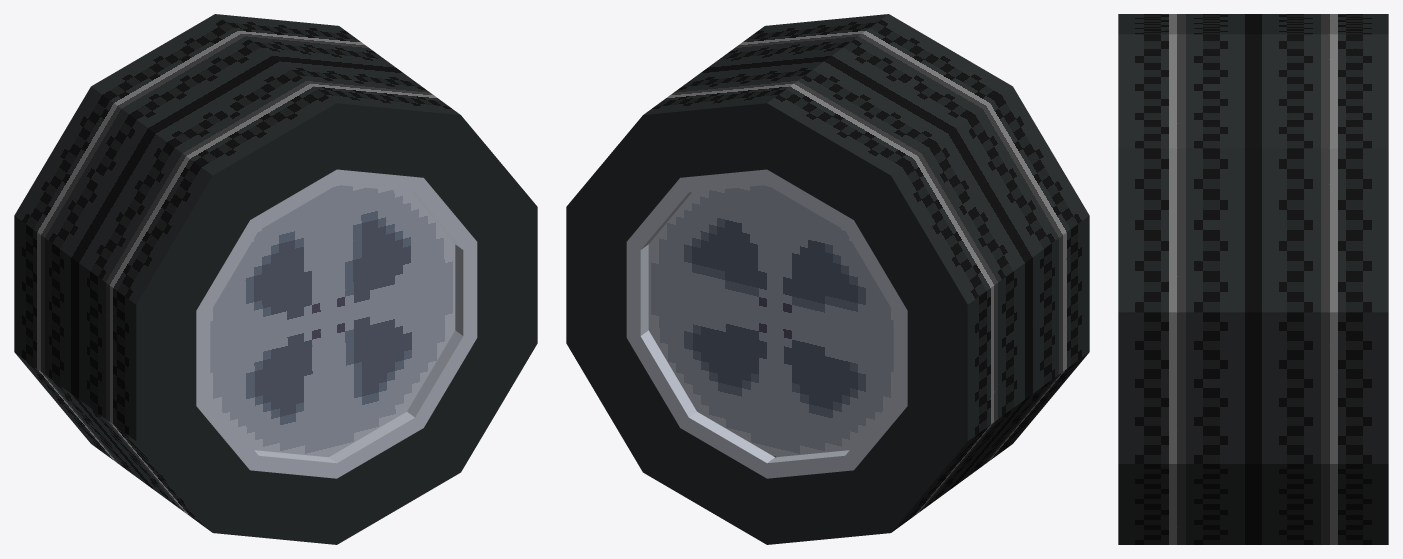
Rendered from Neumatico.fbx.
3 renders of one model, left to right at view 1: azimuth 30°, elevation 25°; view 2: azimuth 150°, elevation 25°; view 3: azimuth 270°, elevation 25°, orthographic. The views are drawn at different scales.
Visible parts, largest first — view 1: Llanta; view 2: Llanta; view 3: Llanta.
Part boxes in pixels (bbox=[...]): Llanta: bbox=[14, 14, 537, 544]; Llanta: bbox=[566, 14, 1089, 544]; Llanta: bbox=[1118, 14, 1388, 544].
Bounding box in the file's own units: 225 × 428 × 450.
1 material, 1 textured.
